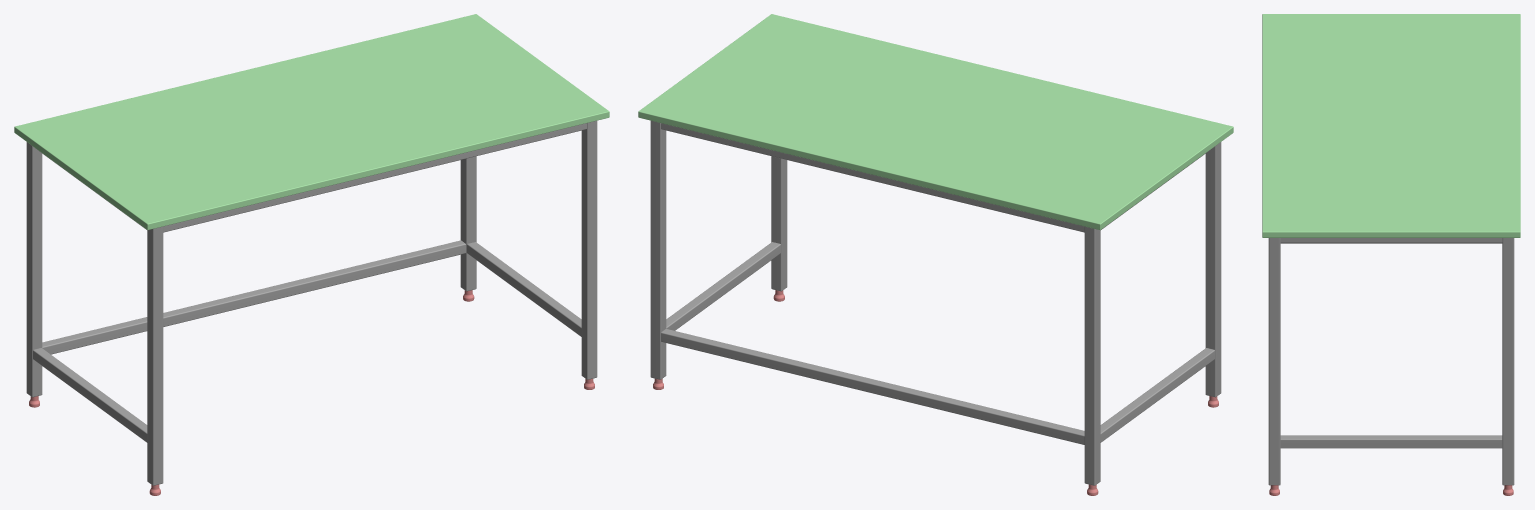
Rendered from HP_LabTable_01.fbx.
3 views of the same model, side by side, from view 1: azimuth 30°, elevation 25°; view 2: azimuth 150°, elevation 25°; view 3: azimuth 270°, elevation 25° (orthographic). The views are drawn at different scales.
Visible parts, largest first — view 1: polySurface137; view 2: polySurface137; view 3: polySurface137.
Boxes of the visible parts, x1,y1,x2,y2 form: polySurface137: [14, 14, 609, 495]; polySurface137: [638, 14, 1233, 495]; polySurface137: [1262, 14, 1520, 495].
Size of the model in its own units: 150 by 86.11 by 75.
